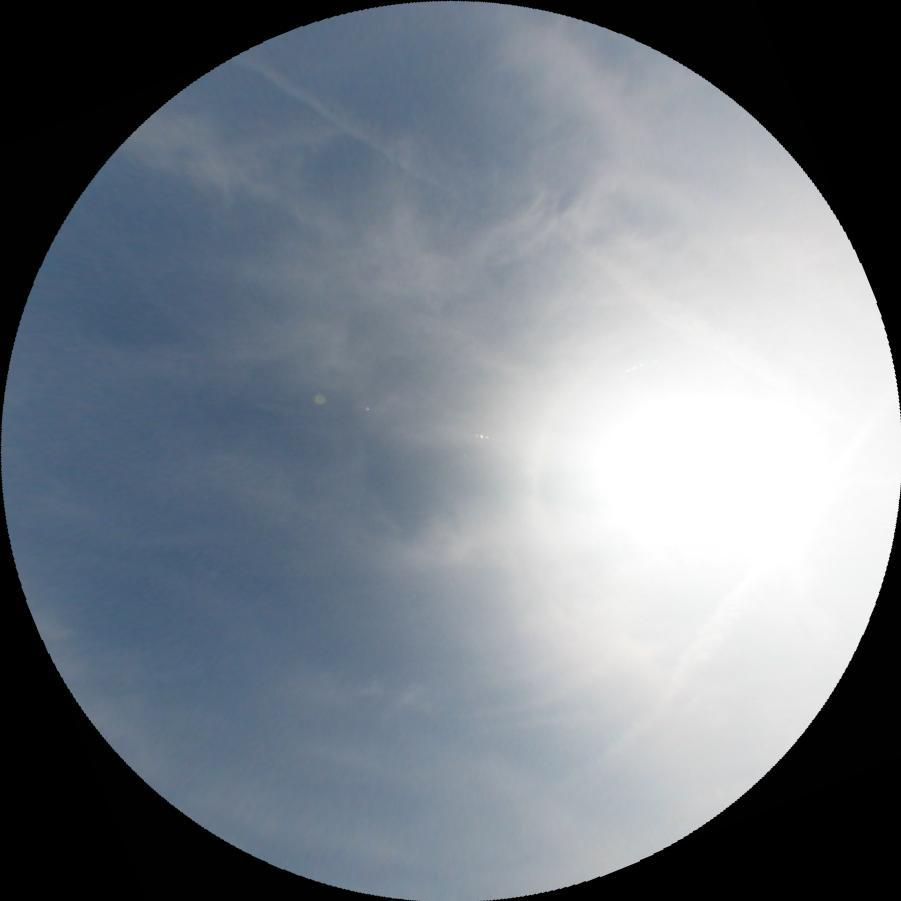contrail veryold: (233, 21, 793, 410), (537, 569, 786, 824)
sun: (593, 362, 832, 556)
